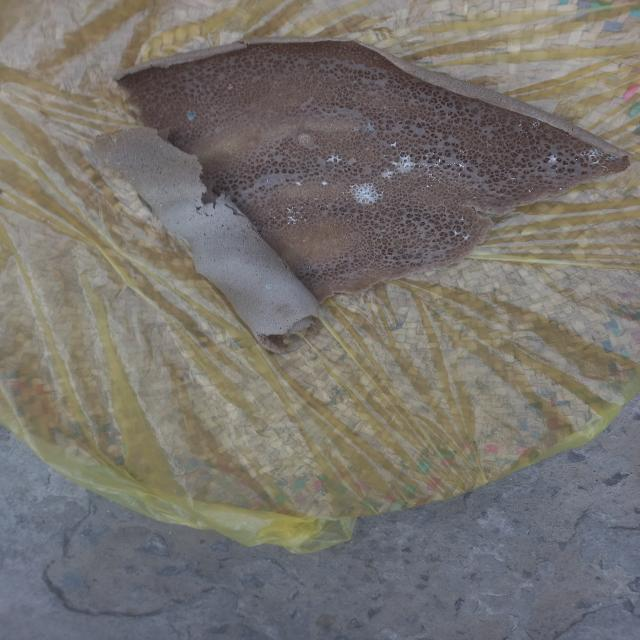injera_mold: (349, 181, 384, 206), (280, 204, 304, 224), (578, 146, 600, 166), (395, 154, 415, 173), (452, 229, 473, 242), (544, 152, 558, 166), (422, 169, 435, 184), (378, 169, 397, 179), (184, 109, 198, 121), (454, 160, 468, 172), (317, 178, 329, 190), (328, 154, 340, 164), (432, 158, 444, 168), (363, 123, 374, 133), (530, 120, 542, 129), (292, 178, 302, 188), (456, 215, 469, 222), (424, 152, 439, 158), (607, 154, 619, 161), (263, 282, 273, 290), (389, 141, 400, 148), (516, 121, 524, 130), (556, 185, 565, 193), (527, 188, 534, 196), (388, 160, 394, 166), (422, 161, 428, 167), (509, 176, 516, 181), (305, 265, 312, 270), (436, 170, 444, 174), (458, 150, 464, 155), (122, 169, 128, 174), (472, 194, 477, 200), (227, 84, 233, 89), (271, 216, 278, 220), (353, 126, 357, 133), (437, 177, 441, 184), (424, 185, 433, 188), (316, 204, 321, 209), (449, 148, 453, 154), (105, 158, 109, 164), (383, 104, 387, 110), (324, 204, 330, 208), (445, 163, 452, 166), (417, 164, 422, 168), (343, 236, 348, 240), (265, 179, 270, 183), (457, 172, 463, 175), (113, 152, 117, 156), (159, 144, 163, 148), (602, 166, 606, 170), (400, 150, 408, 152), (453, 180, 458, 183), (128, 180, 132, 183), (117, 162, 121, 165), (178, 193, 182, 196), (314, 197, 318, 200), (346, 198, 350, 201), (253, 220, 256, 224), (364, 209, 368, 212), (275, 192, 279, 195), (240, 85, 243, 89), (384, 155, 389, 157), (160, 204, 163, 207), (484, 202, 487, 205), (500, 193, 503, 196), (345, 168, 348, 171), (148, 194, 150, 198), (341, 192, 345, 194), (294, 168, 296, 172), (134, 157, 136, 160), (165, 187, 167, 190), (132, 177, 134, 180), (556, 167, 558, 170), (492, 190, 495, 192), (303, 239, 305, 242), (308, 171, 311, 173), (348, 207, 350, 210), (236, 89, 239, 91), (144, 184, 146, 186), (312, 153, 314, 155), (330, 169, 332, 171), (347, 219, 348, 222), (334, 166, 335, 169), (304, 172, 305, 174), (334, 170, 335, 172), (392, 155, 393, 157)
